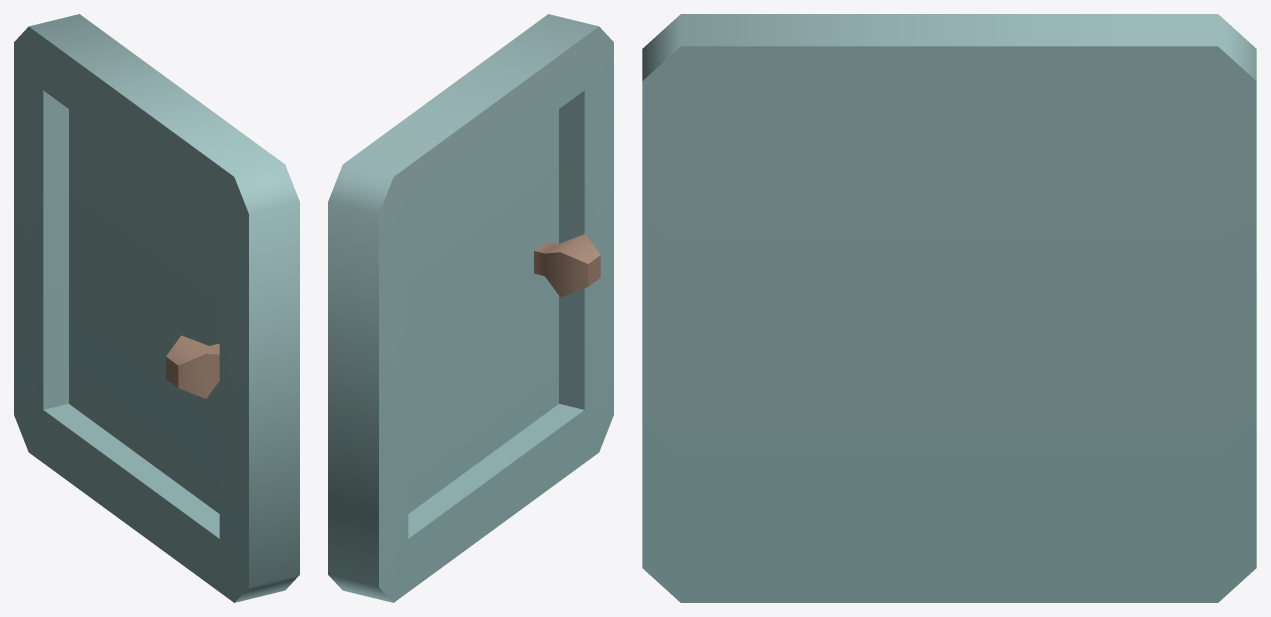
Rendered from (%no-merge) (%open-left) (%low) 10.glb.
The picture shows the model from 3 angles, left to right: view 1: azimuth 30°, elevation 25°; view 2: azimuth 150°, elevation 25°; view 3: azimuth 270°, elevation 25°; orthographic projection. The views are drawn at different scales.
Parts seen in each view (by area): view 1: (%no-merge) (%open-left) (%low) 10(Clone); view 2: (%no-merge) (%open-left) (%low) 10(Clone); view 3: (%no-merge) (%open-left) (%low) 10(Clone).
Boxes of the visible parts, left/top/right/bottom form: (%no-merge) (%open-left) (%low) 10(Clone): left=14, top=14, right=299, bottom=602; (%no-merge) (%open-left) (%low) 10(Clone): left=328, top=14, right=613, bottom=602; (%no-merge) (%open-left) (%low) 10(Clone): left=642, top=14, right=1256, bottom=602.
Bounding box in the file's own units: 0.0782 × 0.4 × 0.4.
